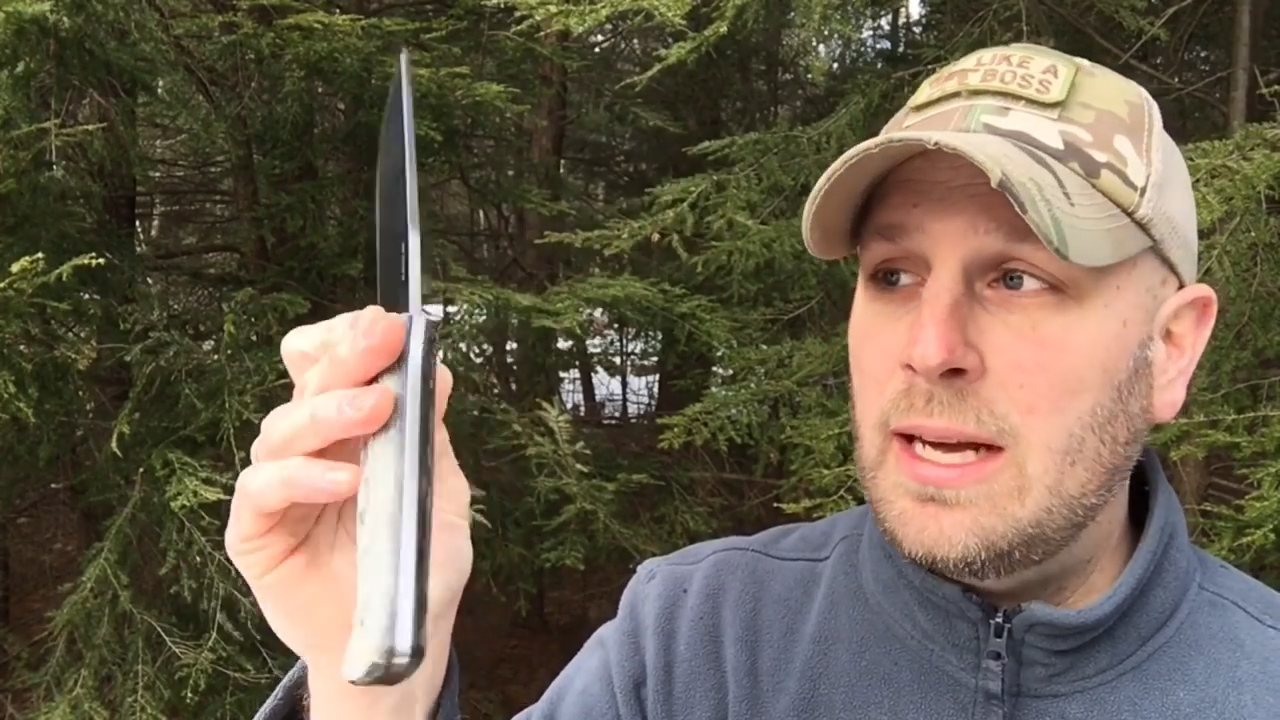knife: (217, 36, 471, 507)
